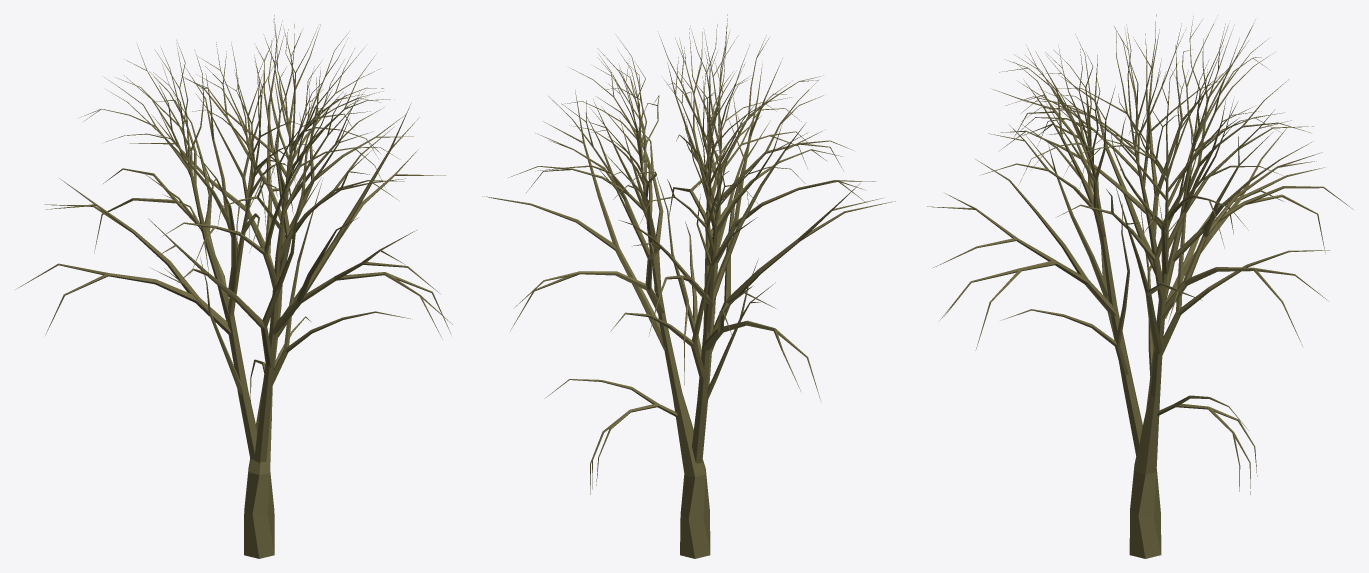
File: arvore3.fbx
3 renders of one model, left to right at view 1: azimuth 30°, elevation 25°; view 2: azimuth 150°, elevation 25°; view 3: azimuth 270°, elevation 25°, orthographic. The views are drawn at different scales.
Parts seen in each view (by area): view 1: tree.003; view 2: tree.003; view 3: tree.003.
Part boxes in pixels (<box>): tree.003: <box>15,15,452,558</box>; tree.003: <box>482,14,895,558</box>; tree.003: <box>927,14,1353,558</box>.
Size of the model in its own units: 957 by 1246 by 923.
